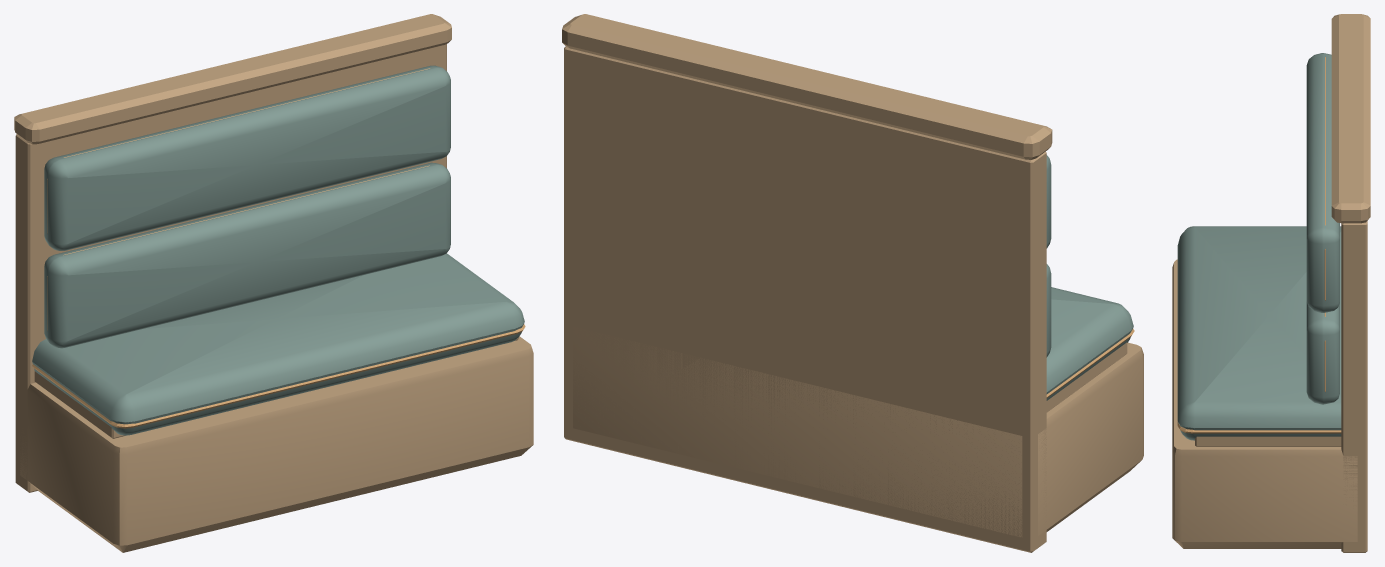
Rendered from bakery-and-cafe-banquette-run-1400-98e0ed19__22205.glb.
The picture shows the model from 3 angles, left to right: view 1: azimuth 30°, elevation 25°; view 2: azimuth 150°, elevation 25°; view 3: azimuth 270°, elevation 25°; orthographic projection. The views are drawn at different scales.
Parts seen in each view (by area): view 1: banquette-run-1400; view 2: banquette-run-1400; view 3: banquette-run-1400.
Boxes of the visible parts, <box> form: banquette-run-1400: <box>14,14,533,552</box>; banquette-run-1400: <box>562,14,1143,552</box>; banquette-run-1400: <box>1172,14,1370,552</box>.
Size of the model in its own units: 1.42 by 1.18 by 0.61.
